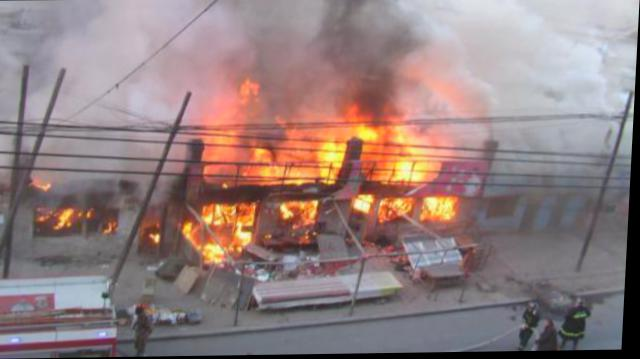fire: (202, 202, 254, 223), (392, 160, 437, 181), (380, 197, 413, 220), (425, 196, 458, 218), (199, 129, 240, 145), (316, 142, 346, 163), (204, 146, 243, 162), (293, 200, 320, 223), (244, 162, 284, 177), (203, 243, 226, 264), (356, 123, 379, 142), (288, 167, 328, 177), (251, 146, 274, 163), (58, 207, 75, 224), (236, 229, 252, 246), (356, 194, 373, 210), (277, 201, 293, 217), (185, 221, 196, 237)
